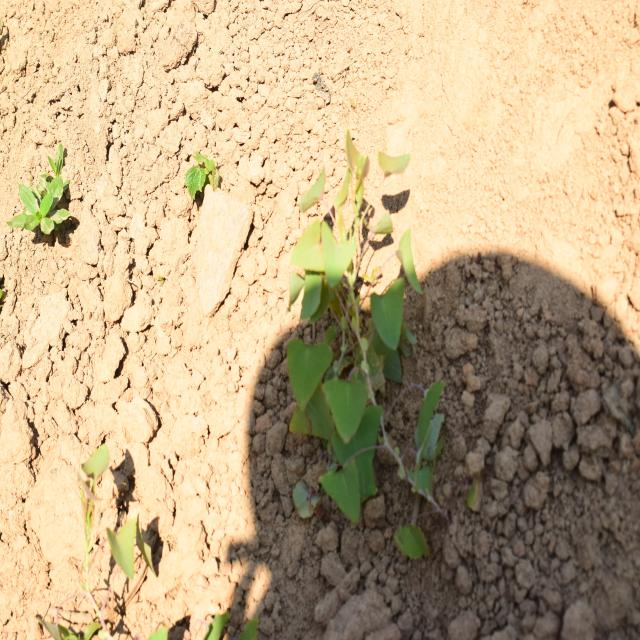Asiatic_Smartweed: (273, 143, 426, 476)
